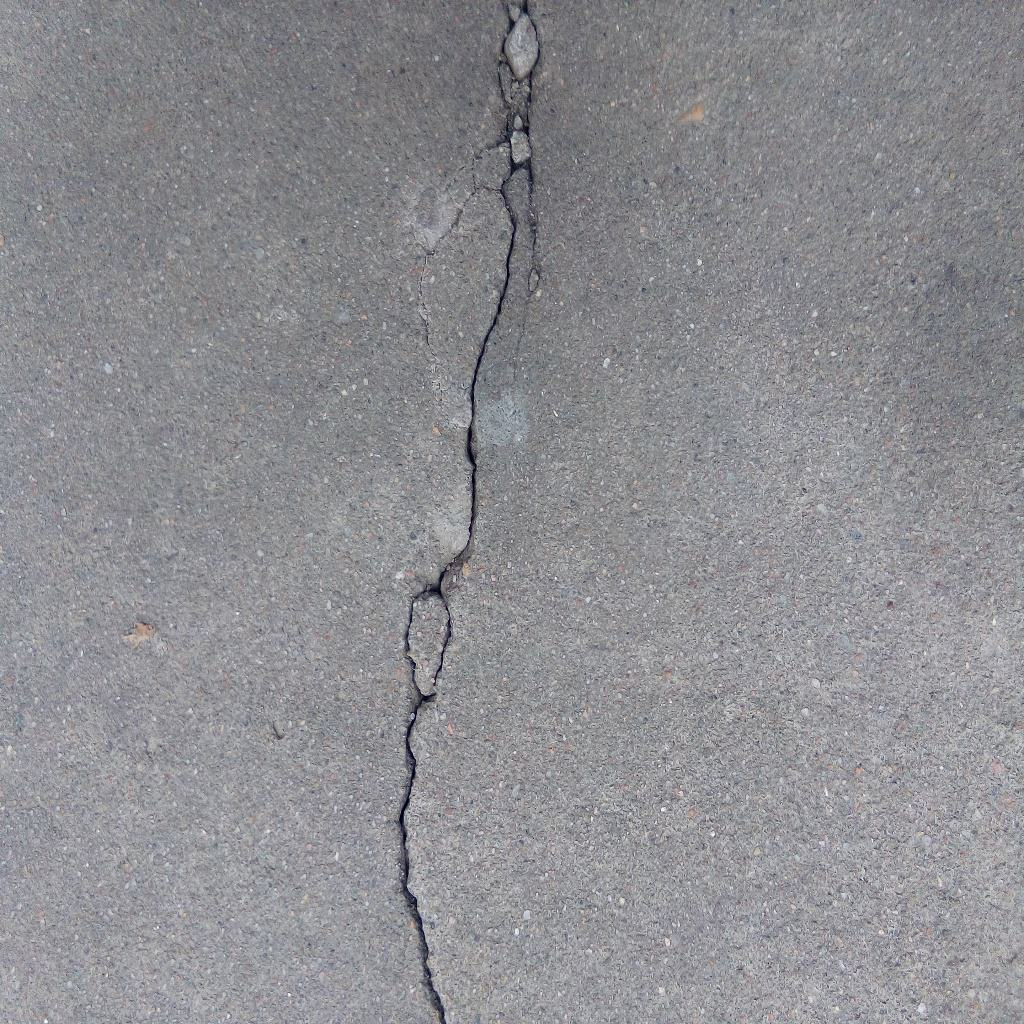Crack: (398, 164, 542, 1024)
Spalling: (496, 1, 542, 164)
